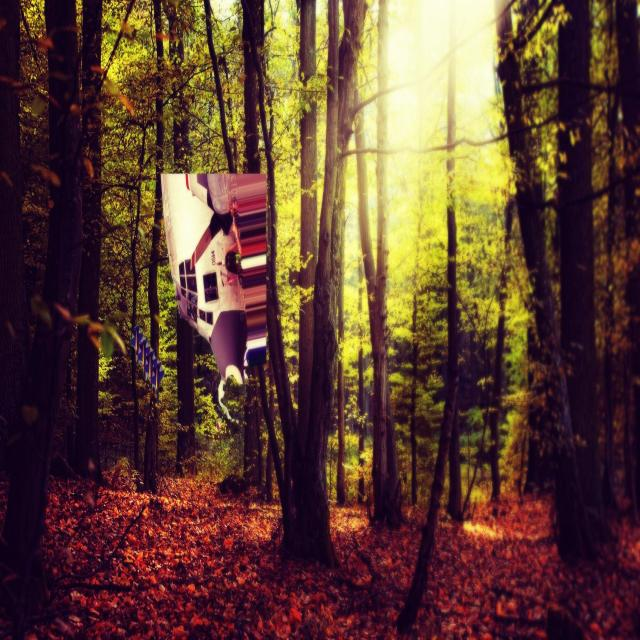airplane: (159, 170, 272, 421)
